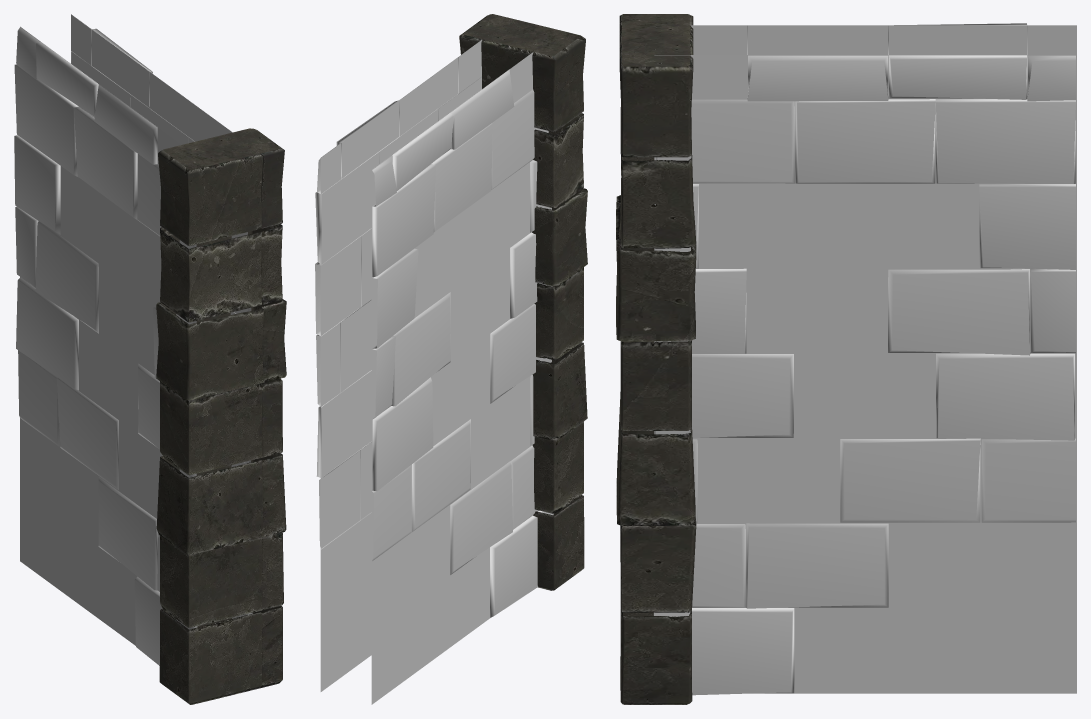
3 views of the same model, side by side, from view 1: azimuth 30°, elevation 25°; view 2: azimuth 150°, elevation 25°; view 3: azimuth 270°, elevation 25° (orthographic). The views are drawn at different scales.
Visible parts, largest first — view 1: SM_Greathall_Wall_6x10_01_LOD0; view 2: SM_Greathall_Wall_6x10_01_LOD0; view 3: SM_Greathall_Wall_6x10_01_LOD0.
Part boxes in pixels (box(x1,y1,x2,y2)): SM_Greathall_Wall_6x10_01_LOD0: box(14, 14, 286, 704); SM_Greathall_Wall_6x10_01_LOD0: box(315, 14, 587, 704); SM_Greathall_Wall_6x10_01_LOD0: box(616, 14, 1076, 704).
Bounding box in the file's own units: 1.99 × 10 × 6.54.
2 materials, 1 textured.
